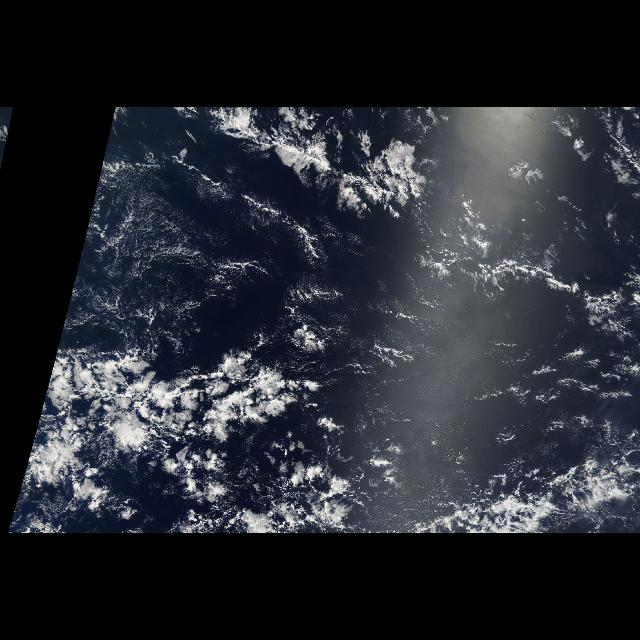Fish: (166, 136, 450, 250)
Flower: (36, 354, 298, 488)
Sugar: (96, 176, 240, 340)
